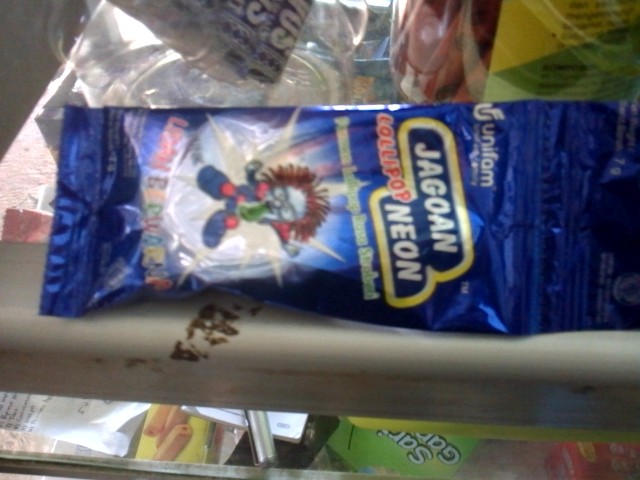jagoan neon: (40, 101, 549, 331)
